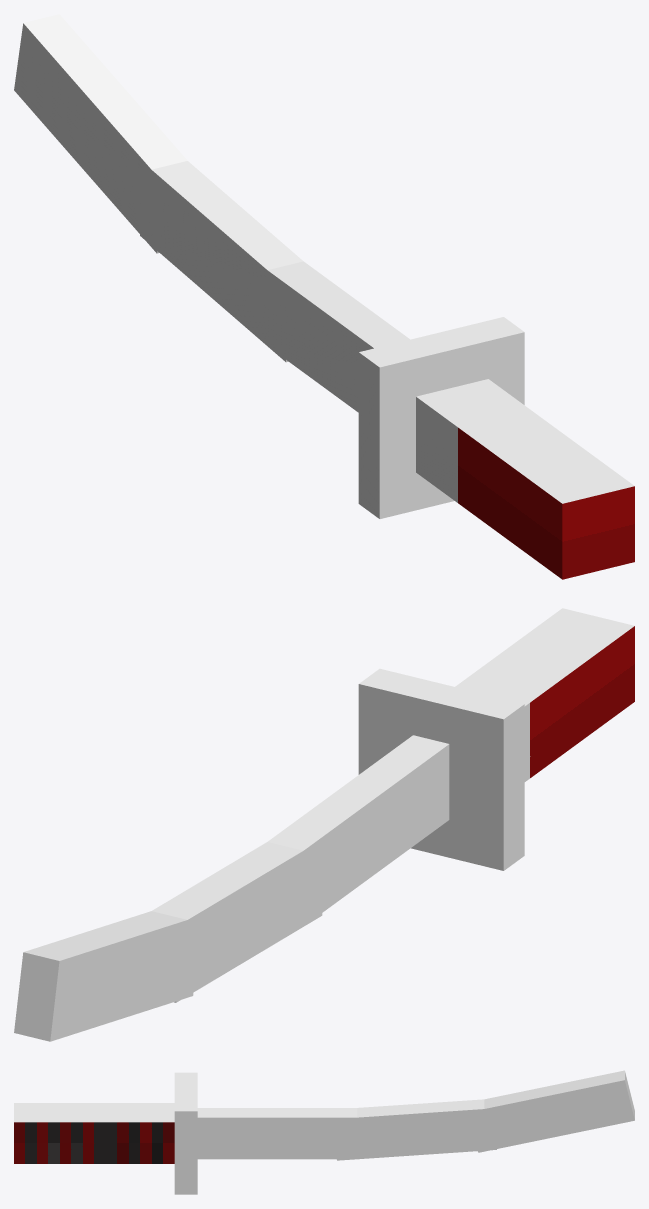
Rendered from dreadkatana.obj.
3 views of the same model, one above another, from view 1: azimuth 30°, elevation 25°; view 2: azimuth 150°, elevation 25°; view 3: azimuth 270°, elevation 25° (orthographic). The views are drawn at different scales.
Parts seen in each view (by area): view 1: handle, blade3, tsuba, blade2, blade1; view 2: tsuba, blade1, handle, blade3, blade2; view 3: handle, blade1, blade2, blade3, tsuba.
Part boxes in pixels (x1,y1,x2,y2): handle: (416,379,634,579); blade3: (14,14,187,253); tsuba: (358,317,524,518); blade2: (140,161,303,362); blade1: (266,261,409,412); tsuba: (358,668,524,870); blade1: (267,735,449,926); handle: (455,608,634,781); blade3: (14,911,202,1041); blade2: (152,842,322,1002); handle: (14,1103,174,1163); blade1: (197,1108,357,1159); blade2: (333,1099,496,1160); blade3: (472,1070,634,1152); tsuba: (174,1072,197,1194).
Size of the model in its own units: 0.25 by 0.3002 by 1.69.
